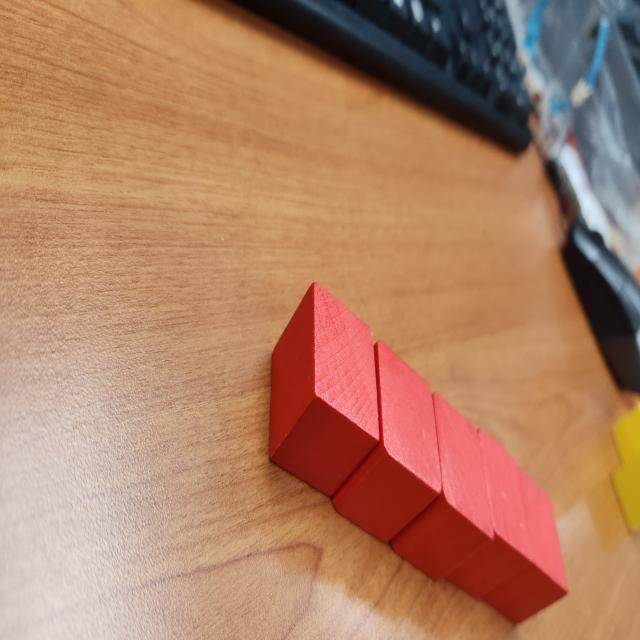red: (264, 278, 380, 498), (327, 339, 443, 546), (388, 390, 496, 583), (443, 428, 532, 602), (483, 462, 570, 625)
yellow: (612, 394, 640, 540)
